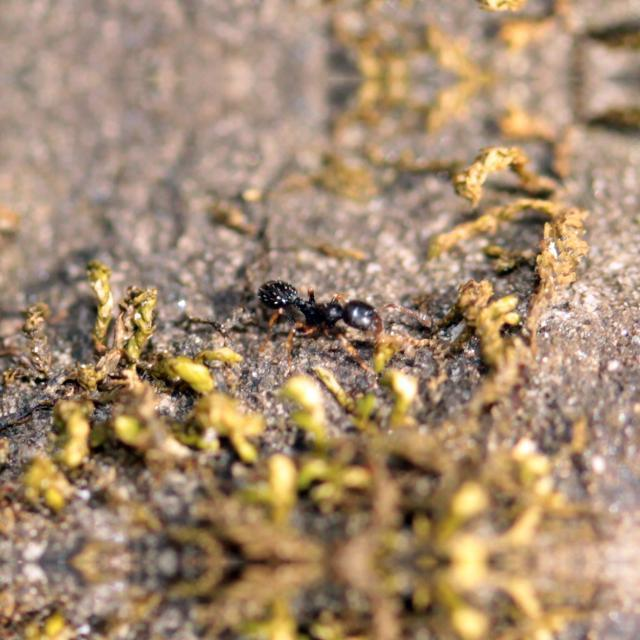Temnothorax: (247, 253, 429, 371)
